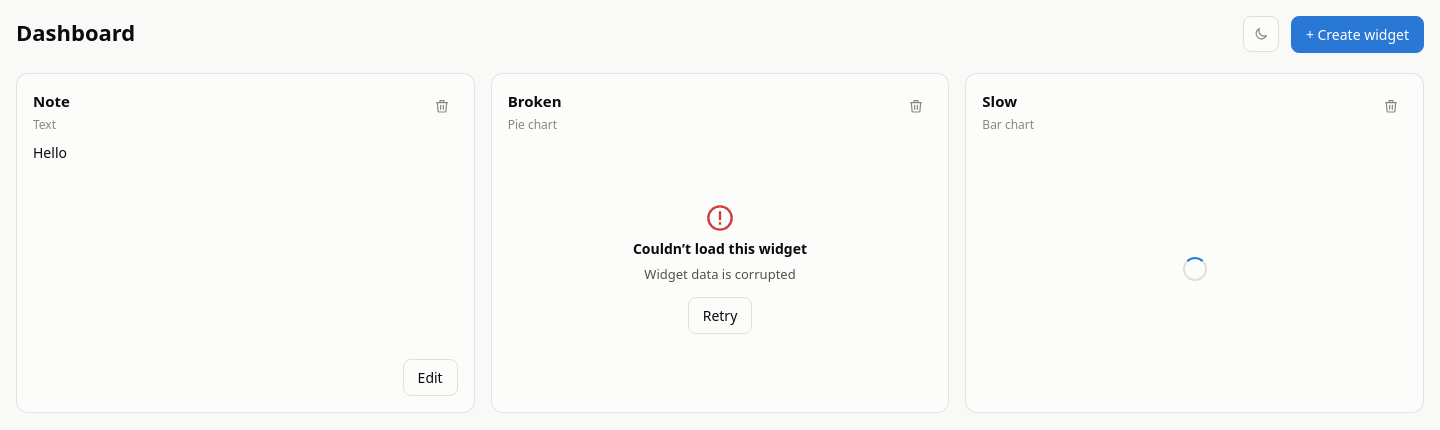
Scenario: Dashboard › isolates loading and error states per widget
The image size is (1440, 430).
Expected: the text "Hello" is shown, [33, 142, 67, 162]
Expected: the text "Widget data is corrupted" is shown, [644, 265, 796, 284]
What coordinates should you click on to do the following:
click the button "Retry"
I would click on:
 (720, 315)
Its box is [688, 296, 752, 334].
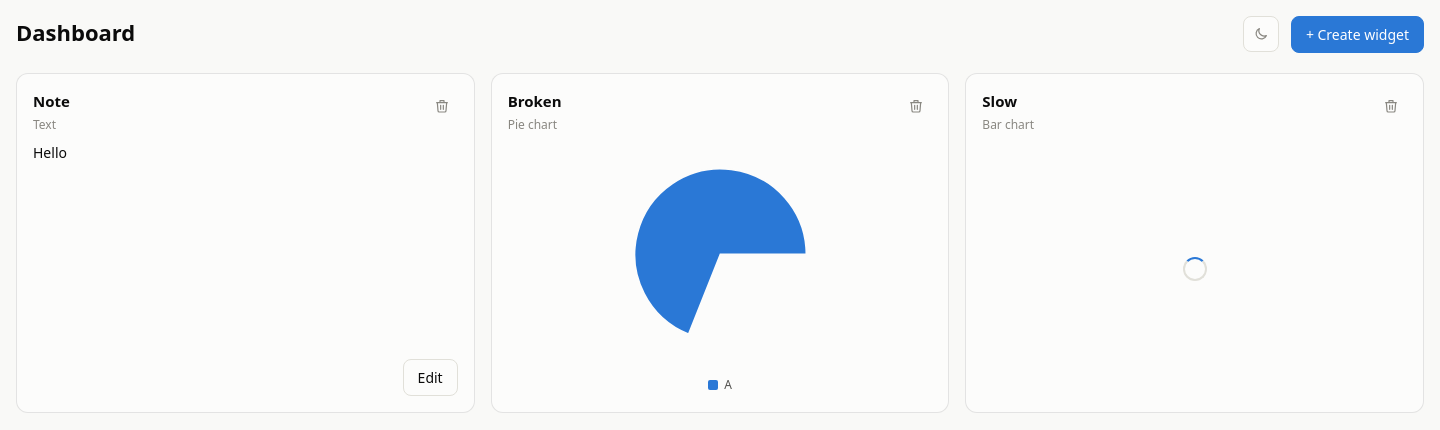
Expected: the message is shown, [1183, 257, 1329, 288]
Expected: the message "Couldn’t load this widget Widget data is corrupted Retry" is gone
